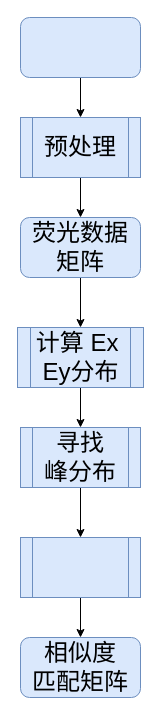
Some shapes in this 161 by 715 pixel diagram are drawn without their labels. The shapes that lost their labels are listed below. From the top down, each one's centre as x and y in pixels, then its label:
At point 80,47: "三维荧光图谱数据".
At point 80,567: "计算 相关性".
